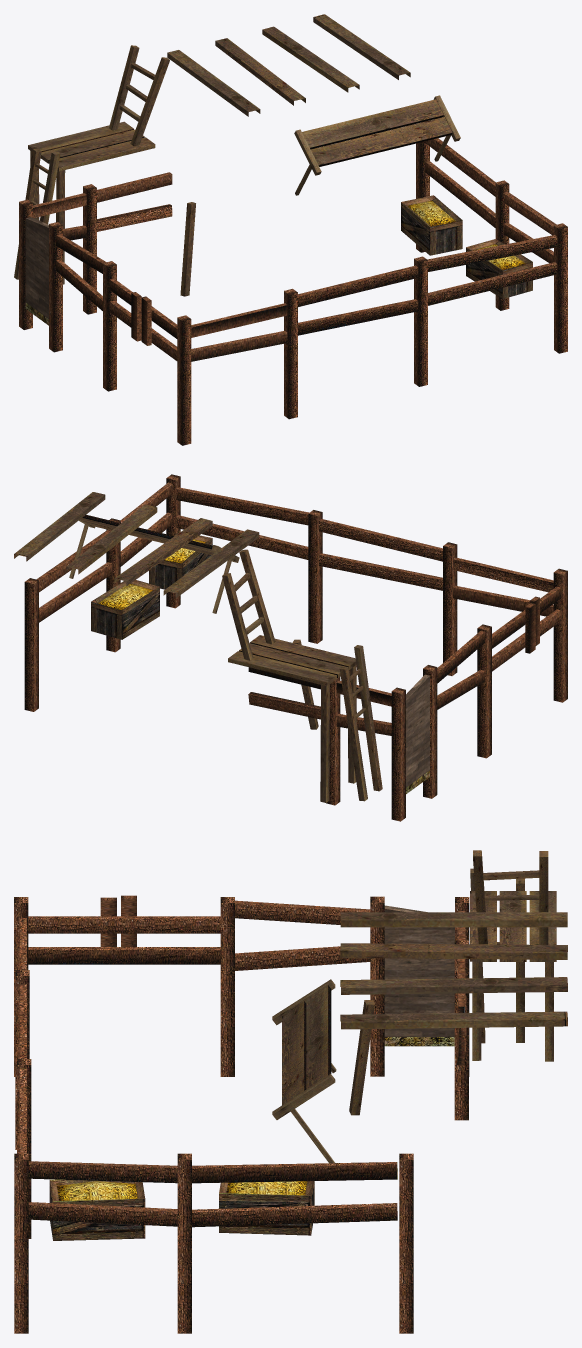
Rendered from kart_corral_fence.dae.
3 views of the same model, one above another, from view 1: azimuth 30°, elevation 25°; view 2: azimuth 150°, elevation 25°; view 3: azimuth 270°, elevation 25° (orthographic). The views are drawn at different scales.
Parts seen in each view (by area): view 1: Fence; view 2: Fence; view 3: Fence.
Part boxes in pixels (box(x1,y1,x2,y2)): Fence: box(14, 14, 567, 445); Fence: box(14, 474, 567, 821); Fence: box(14, 850, 567, 1333).
Bounding box in the file's own units: 15.96 × 8.93 × 13.98.
